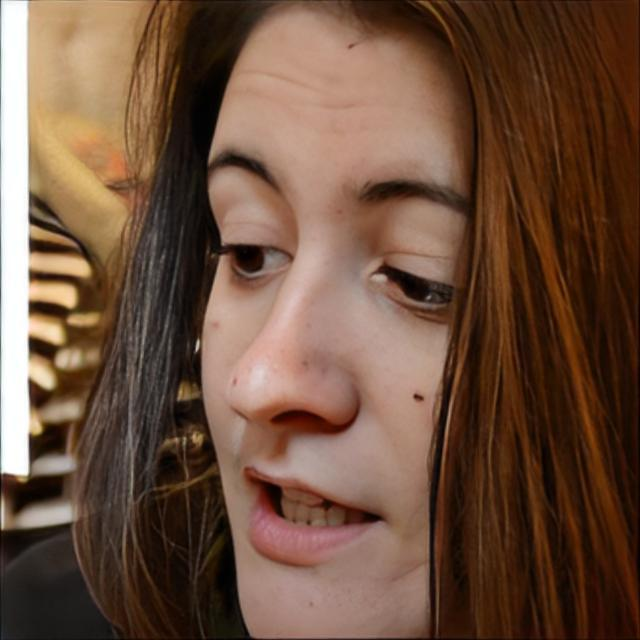surprise: (198, 0, 480, 640)
